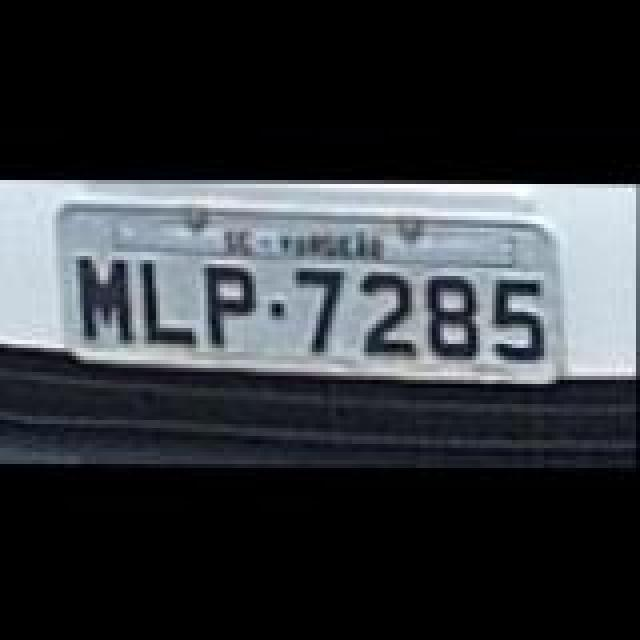2: (360, 266, 428, 354)
5: (486, 274, 558, 358)
7: (292, 262, 360, 350)
8: (420, 270, 488, 358)
L: (136, 258, 204, 346)
M: (70, 252, 142, 340)
P: (200, 262, 268, 350)
